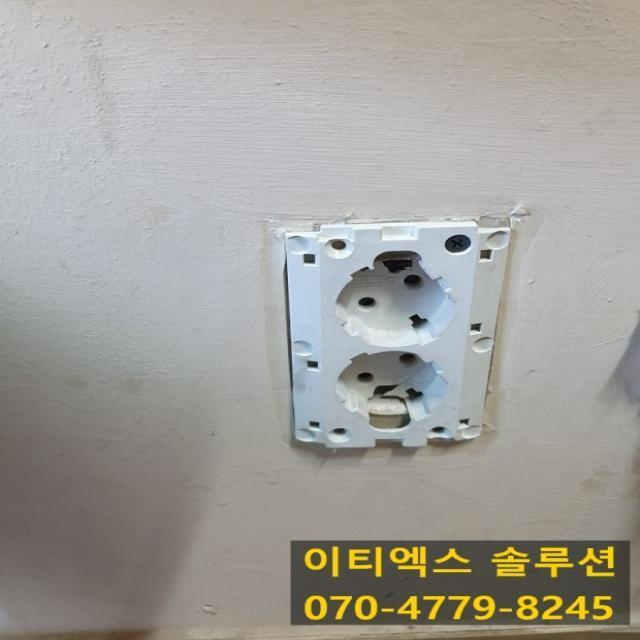typeb: (230, 189, 542, 486)
